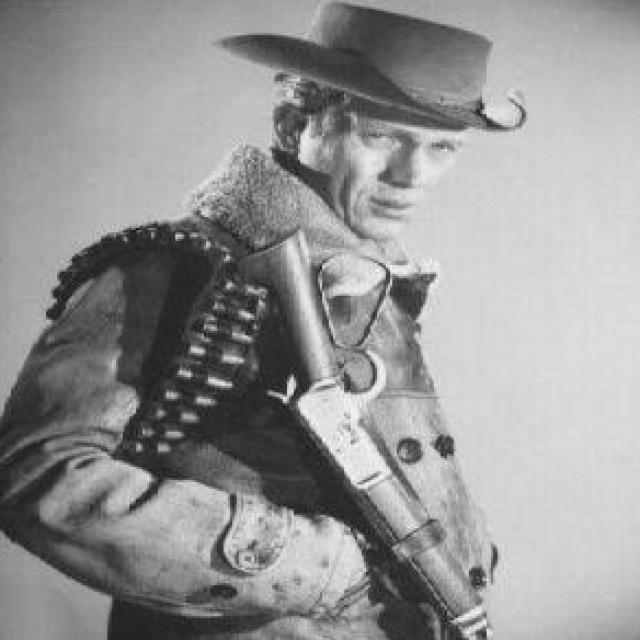pistol: (222, 250, 498, 639)
